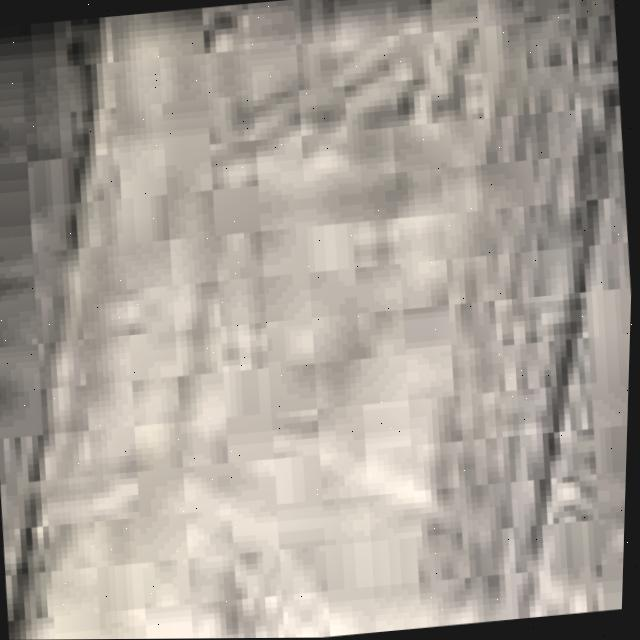paper: (8, 0, 623, 640)
